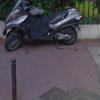Motorcycle: (5, 0, 88, 55)
